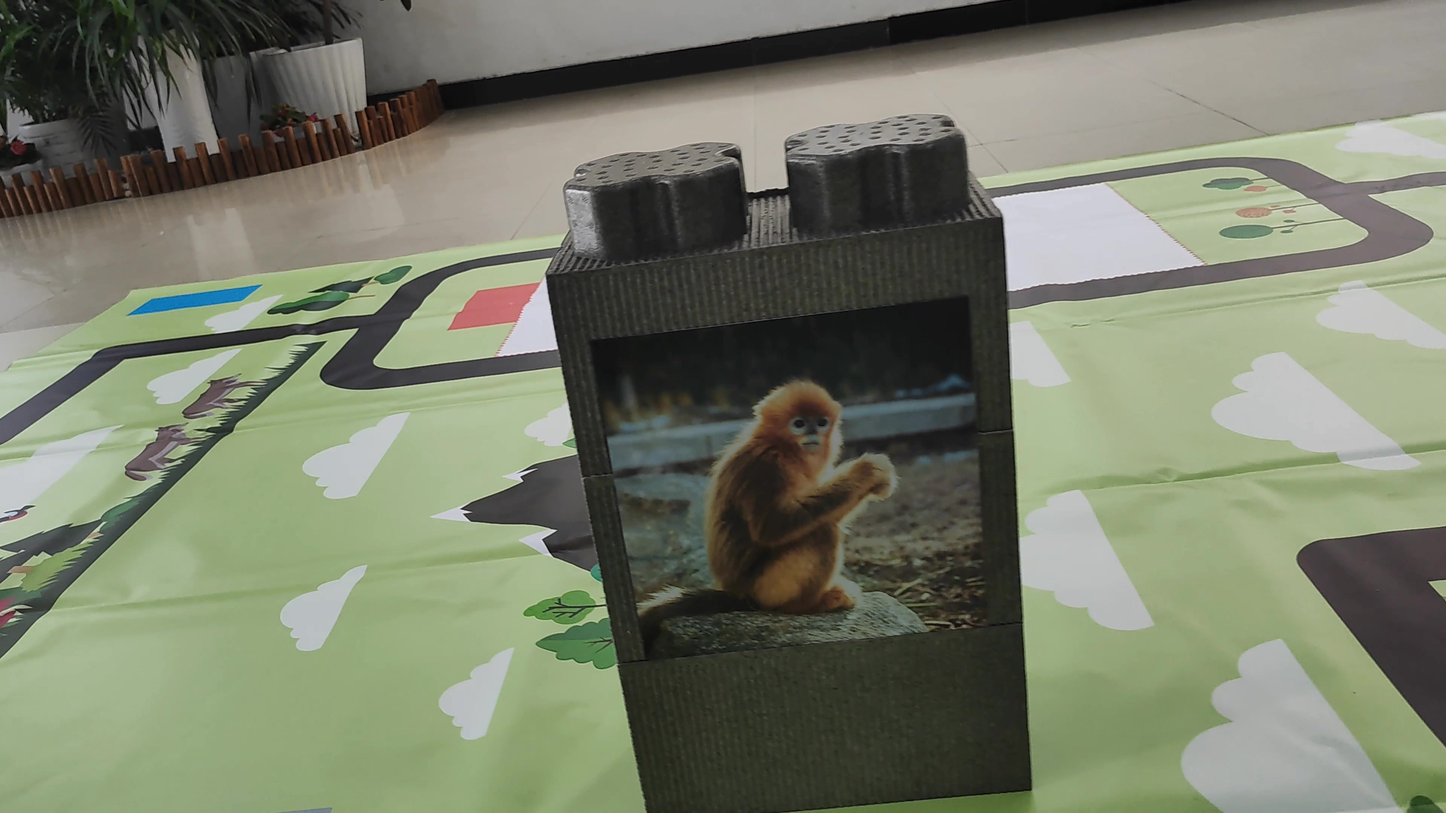monkey: (599, 365, 940, 657)
